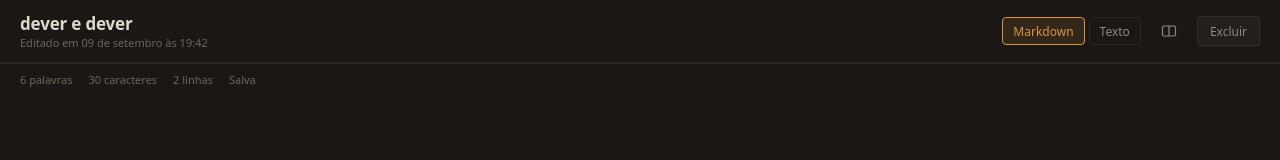
Scenario: busca dentro da nota › conta as ocorrências da nota inteira, não as do bloco
Type keys "{Control>}f{/Control}"
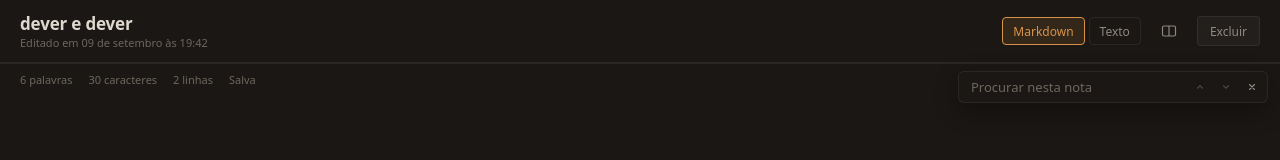
Type "dever" into the search field labelled "Procurar nesta nota". click: (1049, 87)
box: [969,77,1129,97]
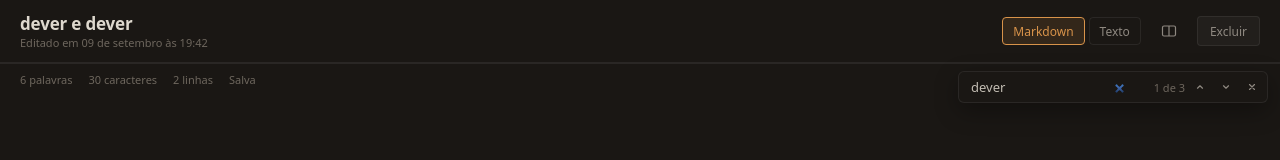
Check: the text "1 de 3" is shown, box [1154,80,1185,94]
